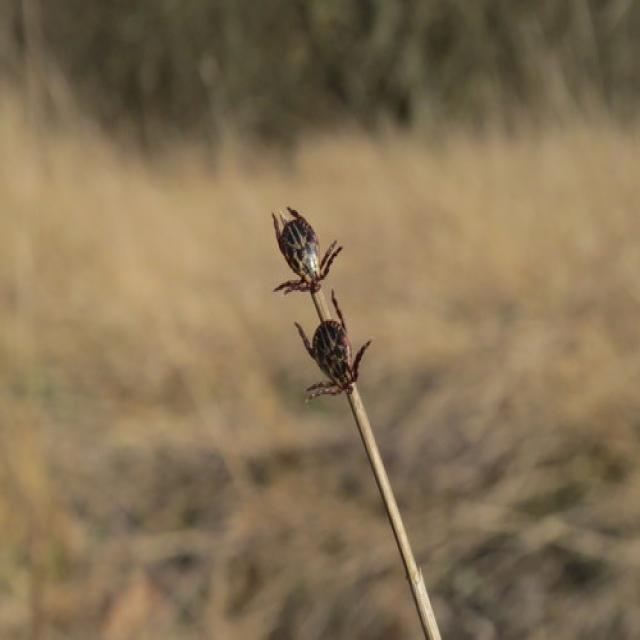Dermacentor Reticulatus-M: (296, 290, 372, 403), (271, 207, 342, 294)
